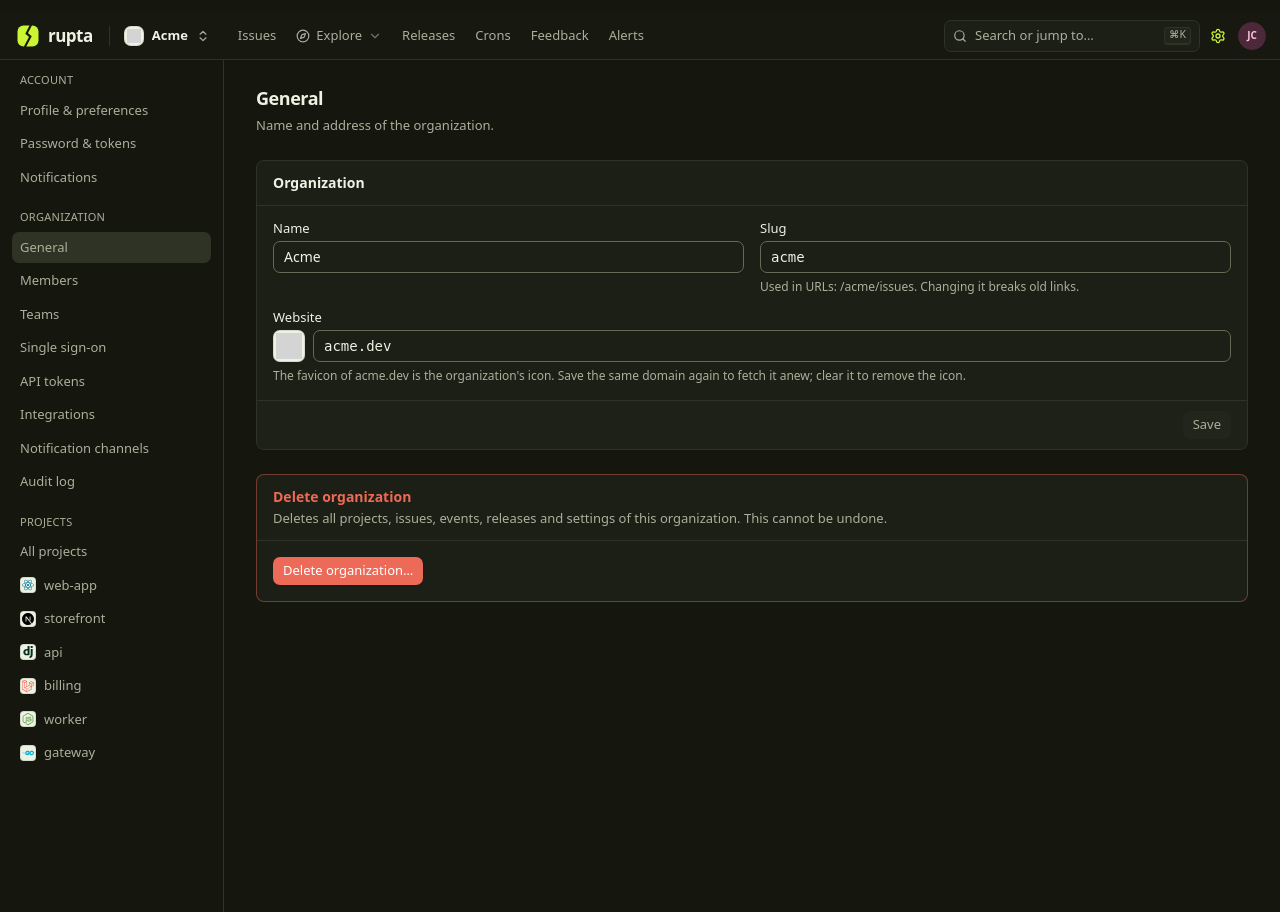
Test case: organization icon › sets, refuses and removes the website domain
Expected: the button "Save" is disabled, [1183,410,1231,438]
Replace the text in the field labelled "Website" with "https://www.example.org/about" at (772, 346), box [313,330,1231,362]
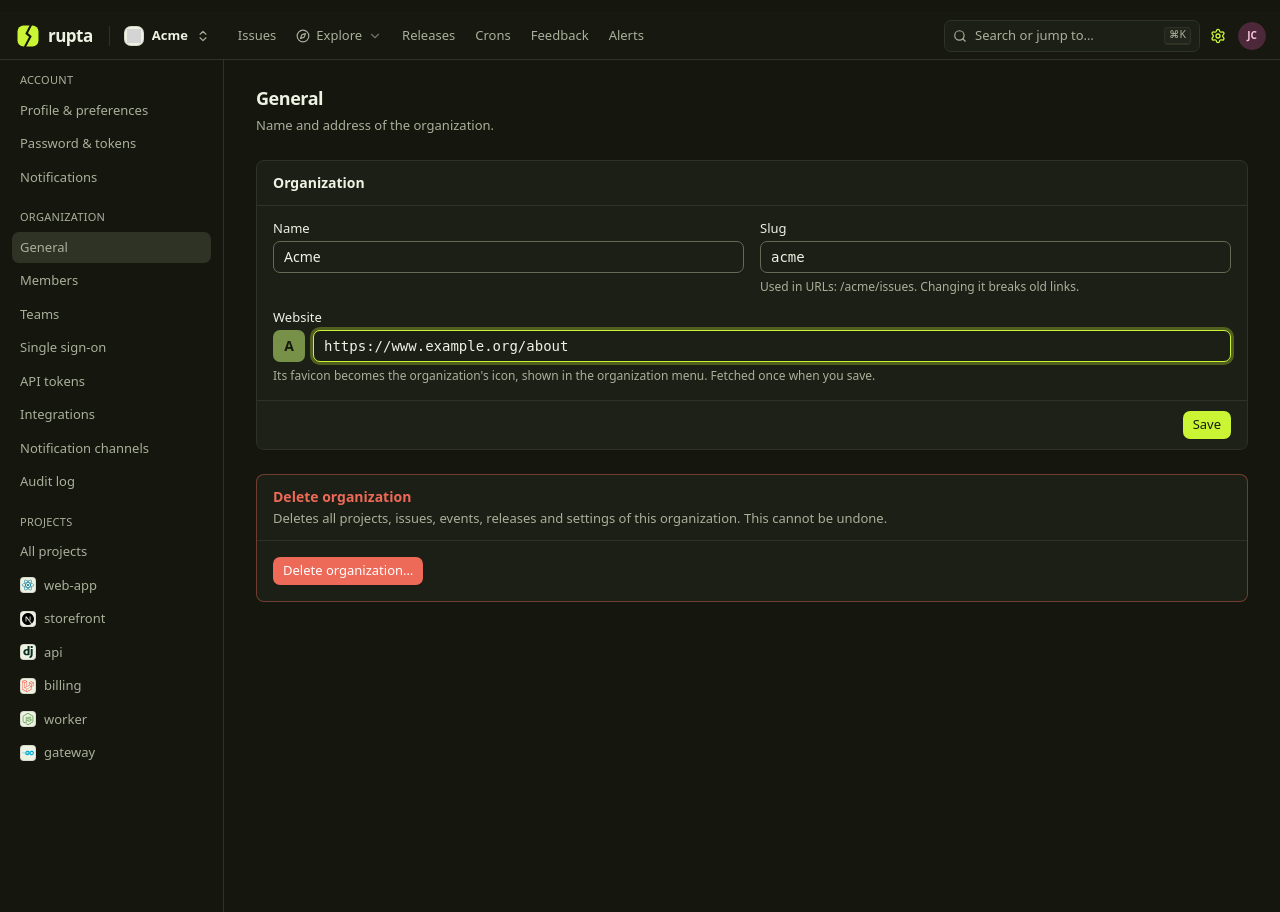
Click the button "Save" at (1207, 424), box [1183,410,1231,438]
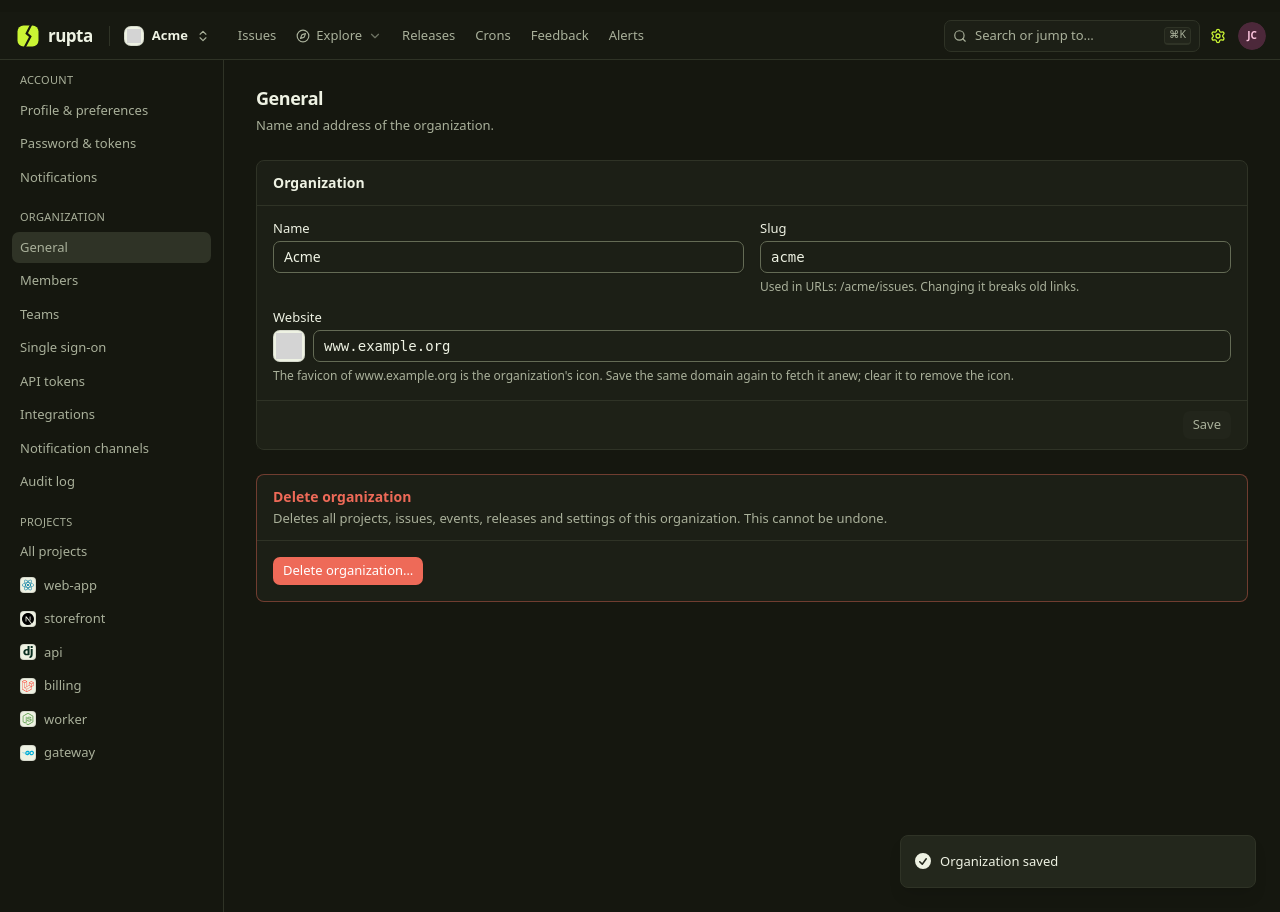
Replace the text in the field labelled "Website" with "nothing.invalid" at (772, 346), box [313,330,1231,362]
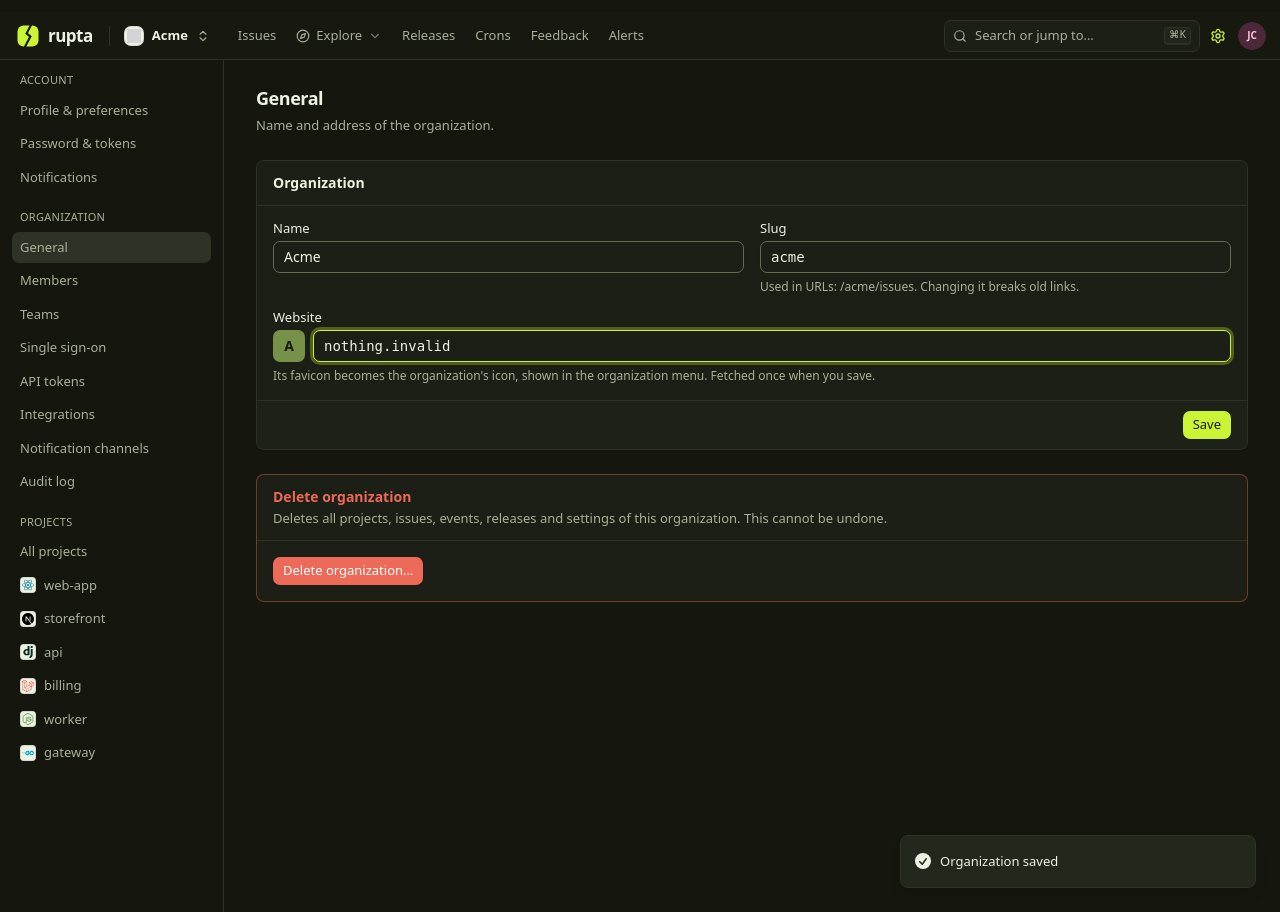
Click the button "Save" at (1207, 424), box [1183,410,1231,438]
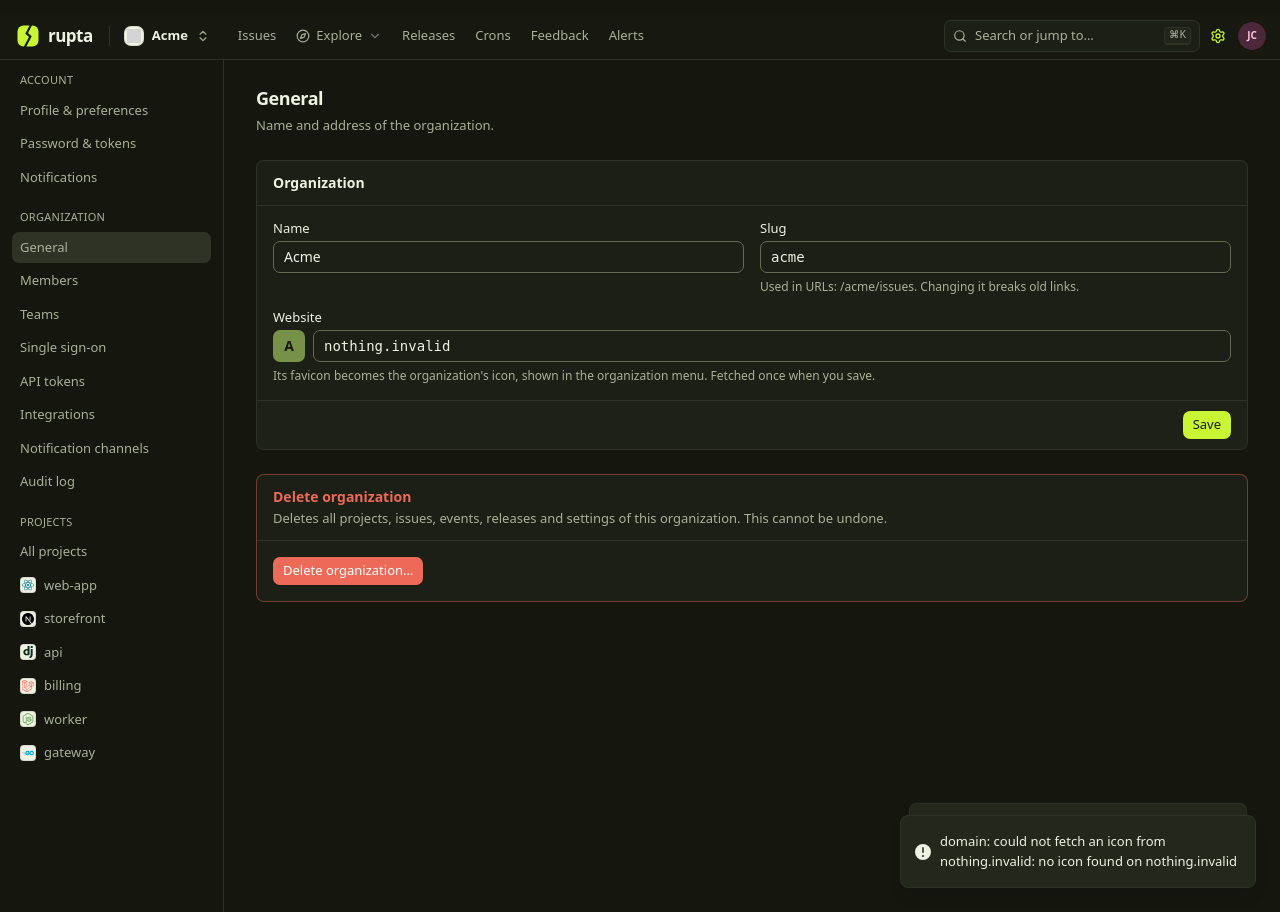
Expected: the text "could not fetch an icon from nothing.invalid" is shown, [940,832,1237,870]
Clear the field labelled "Website" at (772, 346), box [313,330,1231,362]
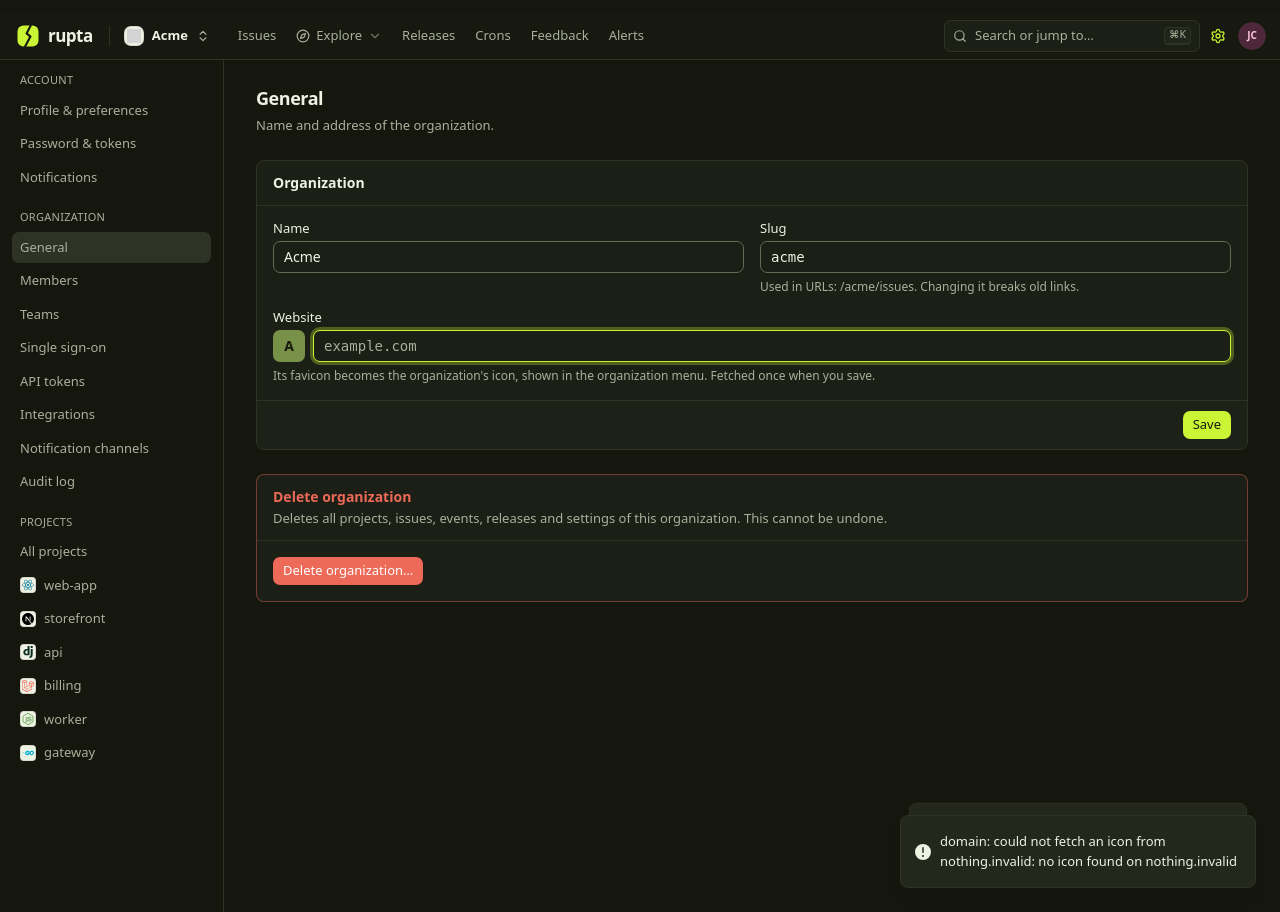
Click the button "Save" at (1207, 424), box [1183,410,1231,438]
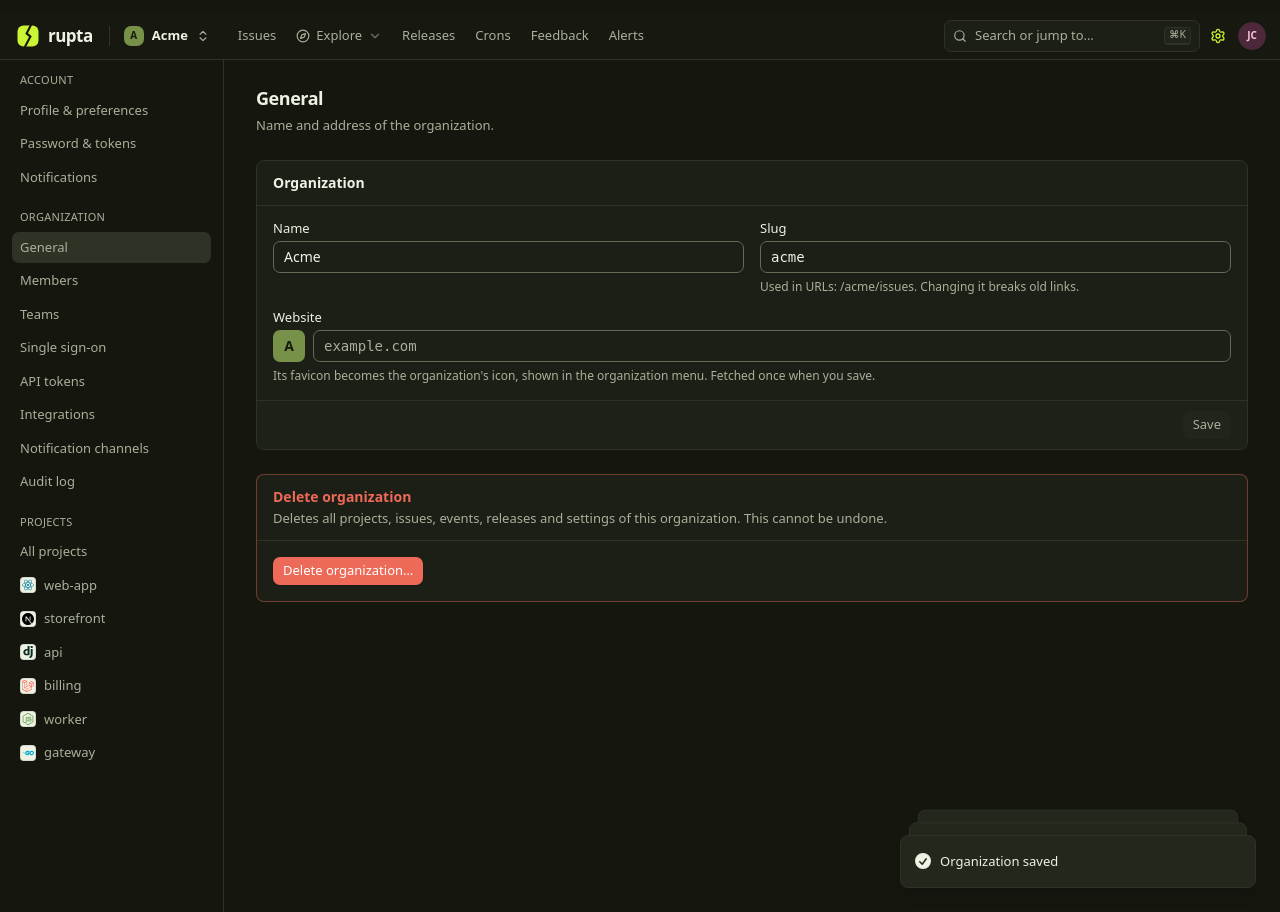
Expected: the picture is gone
